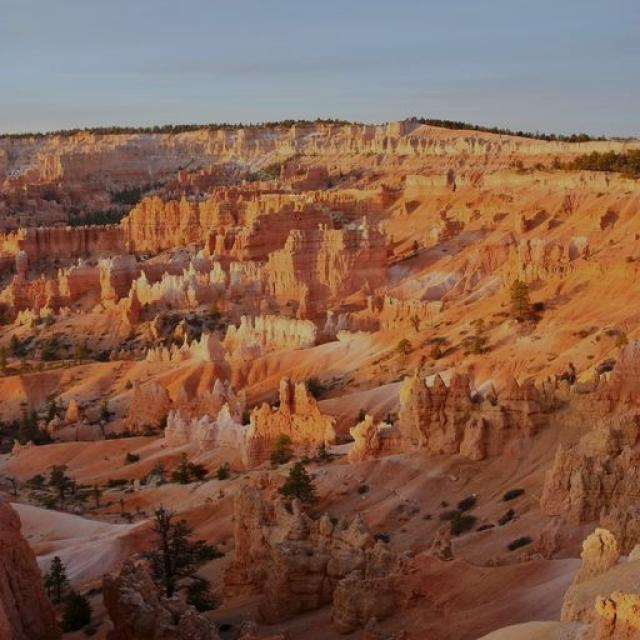watermark: (222, 146, 377, 241)
